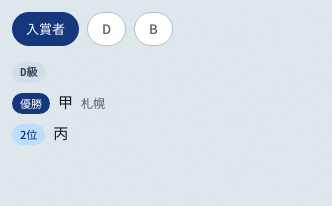
Test case: TournamentDetailTabs — タブ › 級タブをタップするとクロス表に切り替わる
The image size is (332, 206).
Click the tab "D".
click(107, 29)  # box top-left (87, 12), bottom-right (126, 46)
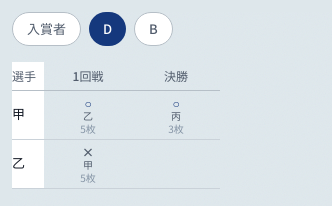
Expected: the text "優勝" is gone
Expected: the column heading "1回戦" is shown, top-left (44, 62), bottom-right (132, 91)
Expected: the column heading "決勝" is shown, top-left (132, 62), bottom-right (220, 91)
